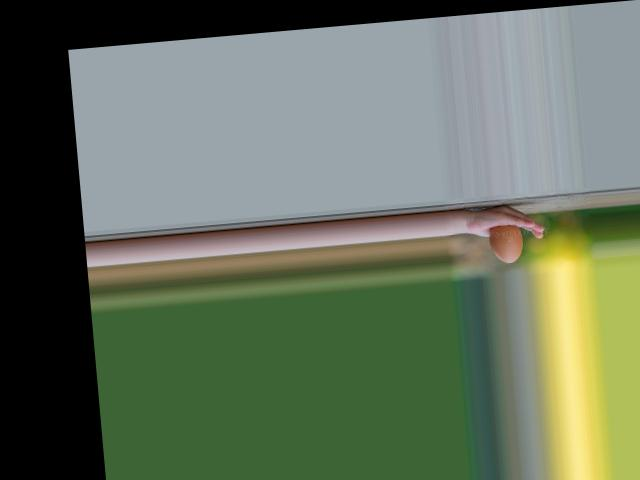egg: (487, 223, 523, 264)
